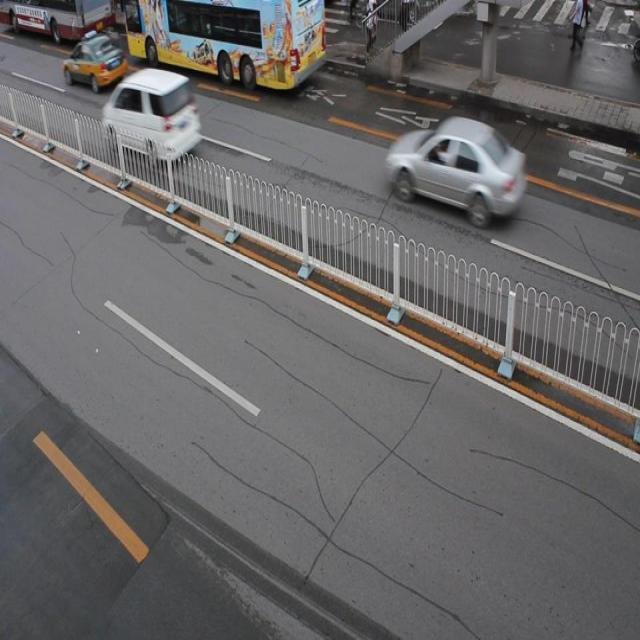car: (387, 115, 524, 222), (63, 30, 127, 92)
truck: (103, 67, 202, 162)
van: (123, 1, 326, 93), (1, 1, 112, 40)
